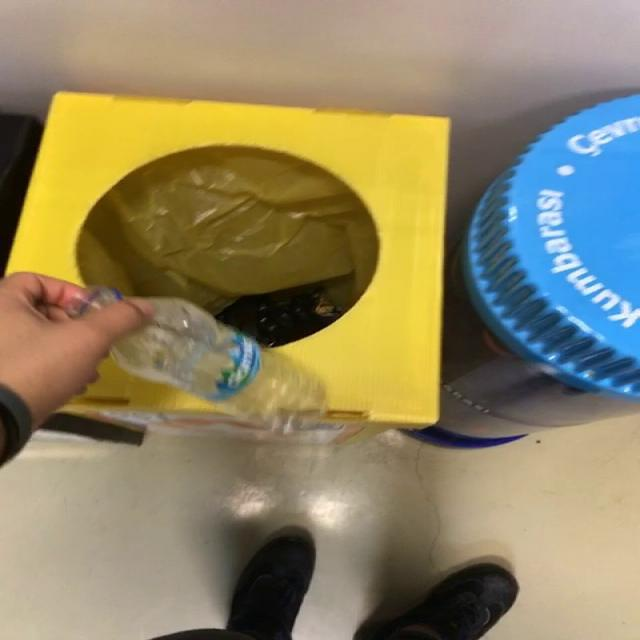plastic: (112, 299, 263, 402), (231, 366, 324, 422), (67, 287, 123, 317)
